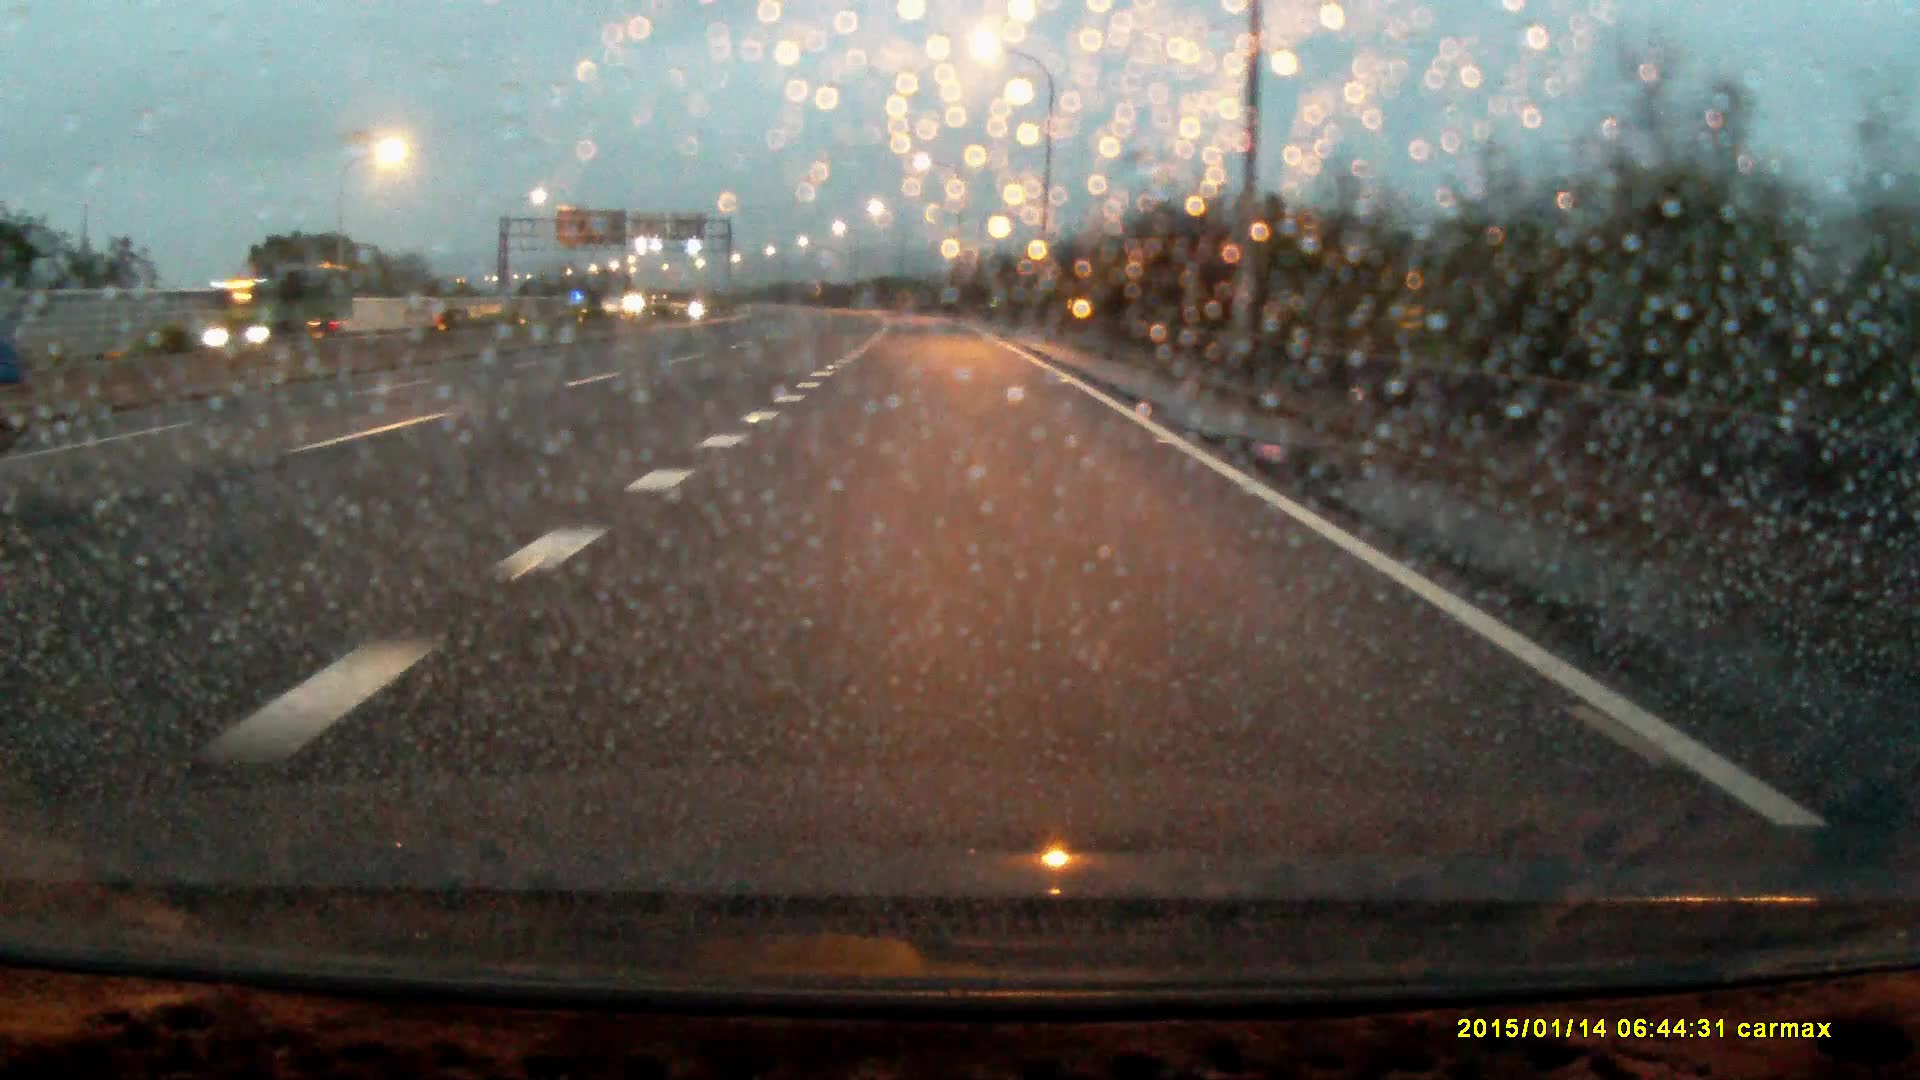vehicle: (210, 273, 352, 345)
